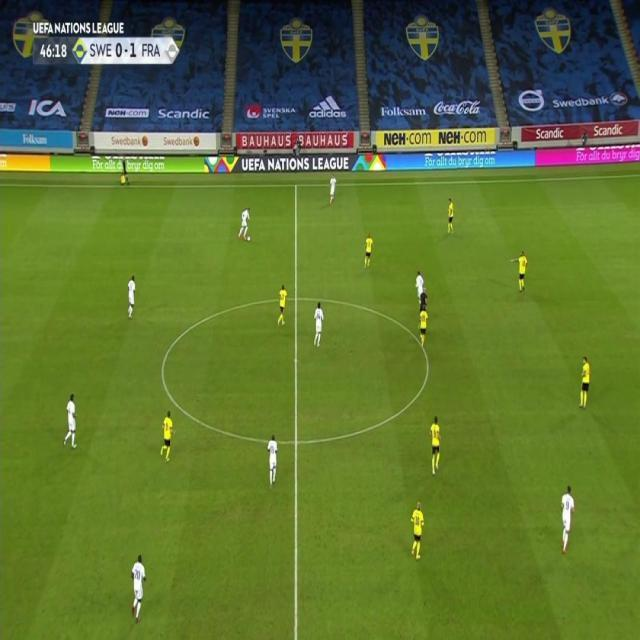ball: (247, 236, 251, 242)
player: (129, 552, 148, 622), (558, 484, 576, 555), (408, 499, 426, 563), (62, 392, 80, 450), (428, 414, 443, 476), (159, 409, 176, 463), (577, 355, 592, 411), (266, 433, 279, 487), (312, 301, 325, 348), (417, 305, 430, 350), (126, 273, 138, 319), (277, 283, 289, 328), (516, 249, 528, 294), (238, 205, 252, 242), (363, 233, 375, 271), (446, 196, 456, 234), (327, 175, 337, 205), (414, 269, 423, 296)
referee: (120, 158, 130, 185), (419, 287, 429, 310)
